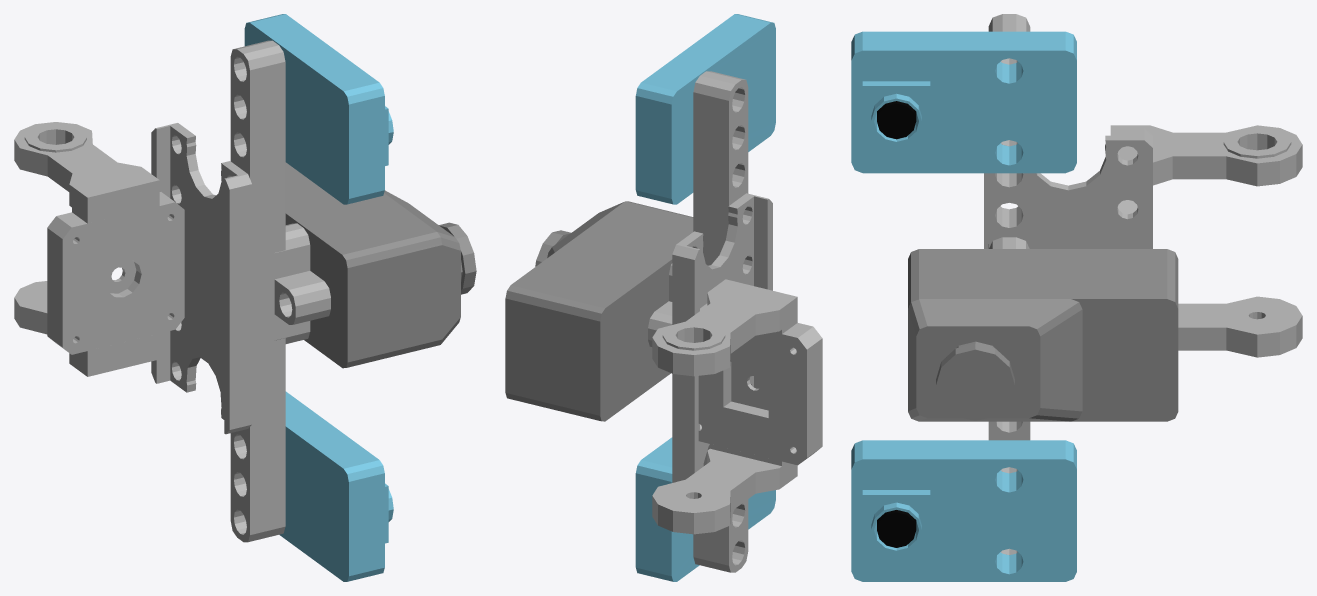
The model's file is head-neck-p_mesh.glb.
The picture shows the model from 3 angles, left to right: view 1: azimuth 30°, elevation 25°; view 2: azimuth 150°, elevation 25°; view 3: azimuth 270°, elevation 25°; orthographic projection. The views are drawn at different scales.
Parts seen in each view (by area): view 1: base2_M1KShape4, base2_M1KShape9, base2_M1KShape3, base2_M1KShape0, base2_M1KShape5, base2_M1KShape7, base2_M1KShape2, base2_M1KShape11, base2_M1KShape1, base2_M1KShape13, base2_M1KShape12, base2_M1KShape10; view 2: base2_M1KShape9, base2_M1KShape5, base2_M1KShape0, base2_M1KShape4, base2_M1KShape3, base2_M1KShape2, base2_M1KShape1, base2_M1KShape7, base2_M1KShape13, base2_M1KShape11, base2_M1KShape10; view 3: base2_M1KShape5, base2_M1KShape7, base2_M1KShape9, base2_M1KShape11, base2_M1KShape3, base2_M1KShape2, base2_M1KShape1, base2_M1KShape10, base2_M1KShape4, base2_M1KShape6, base2_M1KShape8.
Part boxes in pixels (x1,y1,x2,y2): base2_M1KShape4: (230,40,285,542); base2_M1KShape9: (285,162,462,368); base2_M1KShape3: (151,123,251,434); base2_M1KShape0: (47,192,184,354); base2_M1KShape5: (244,14,393,204); base2_M1KShape7: (279,391,393,581); base2_M1KShape2: (14,122,159,223); base2_M1KShape11: (384,190,460,347); base2_M1KShape1: (14,281,159,376); base2_M1KShape13: (274,271,330,324); base2_M1KShape12: (274,223,310,343); base2_M1KShape10: (439,222,476,294); base2_M1KShape9: (505,201,693,421); base2_M1KShape5: (635,14,775,204); base2_M1KShape0: (698,303,822,465); base2_M1KShape4: (693,71,748,572); base2_M1KShape3: (672,193,772,482); base2_M1KShape2: (652,279,797,376); base2_M1KShape1: (652,444,797,534); base2_M1KShape7: (635,437,775,581); base2_M1KShape13: (648,301,672,346); base2_M1KShape11: (547,202,623,257); base2_M1KShape10: (535,230,571,266); base2_M1KShape5: (851,31,1076,173); base2_M1KShape7: (851,440,1076,581); base2_M1KShape9: (908,249,1178,421); base2_M1KShape11: (908,289,1082,421); base2_M1KShape3: (984,128,1152,248); base2_M1KShape2: (1110,125,1302,186); base2_M1KShape1: (1178,296,1302,357); base2_M1KShape10: (936,343,1014,420); base2_M1KShape4: (988,14,1030,555); base2_M1KShape6: (877,101,916,139); base2_M1KShape8: (877,510,916,547).
Size of the model in its own units: 0.0739 by 0.104 by 0.08.
